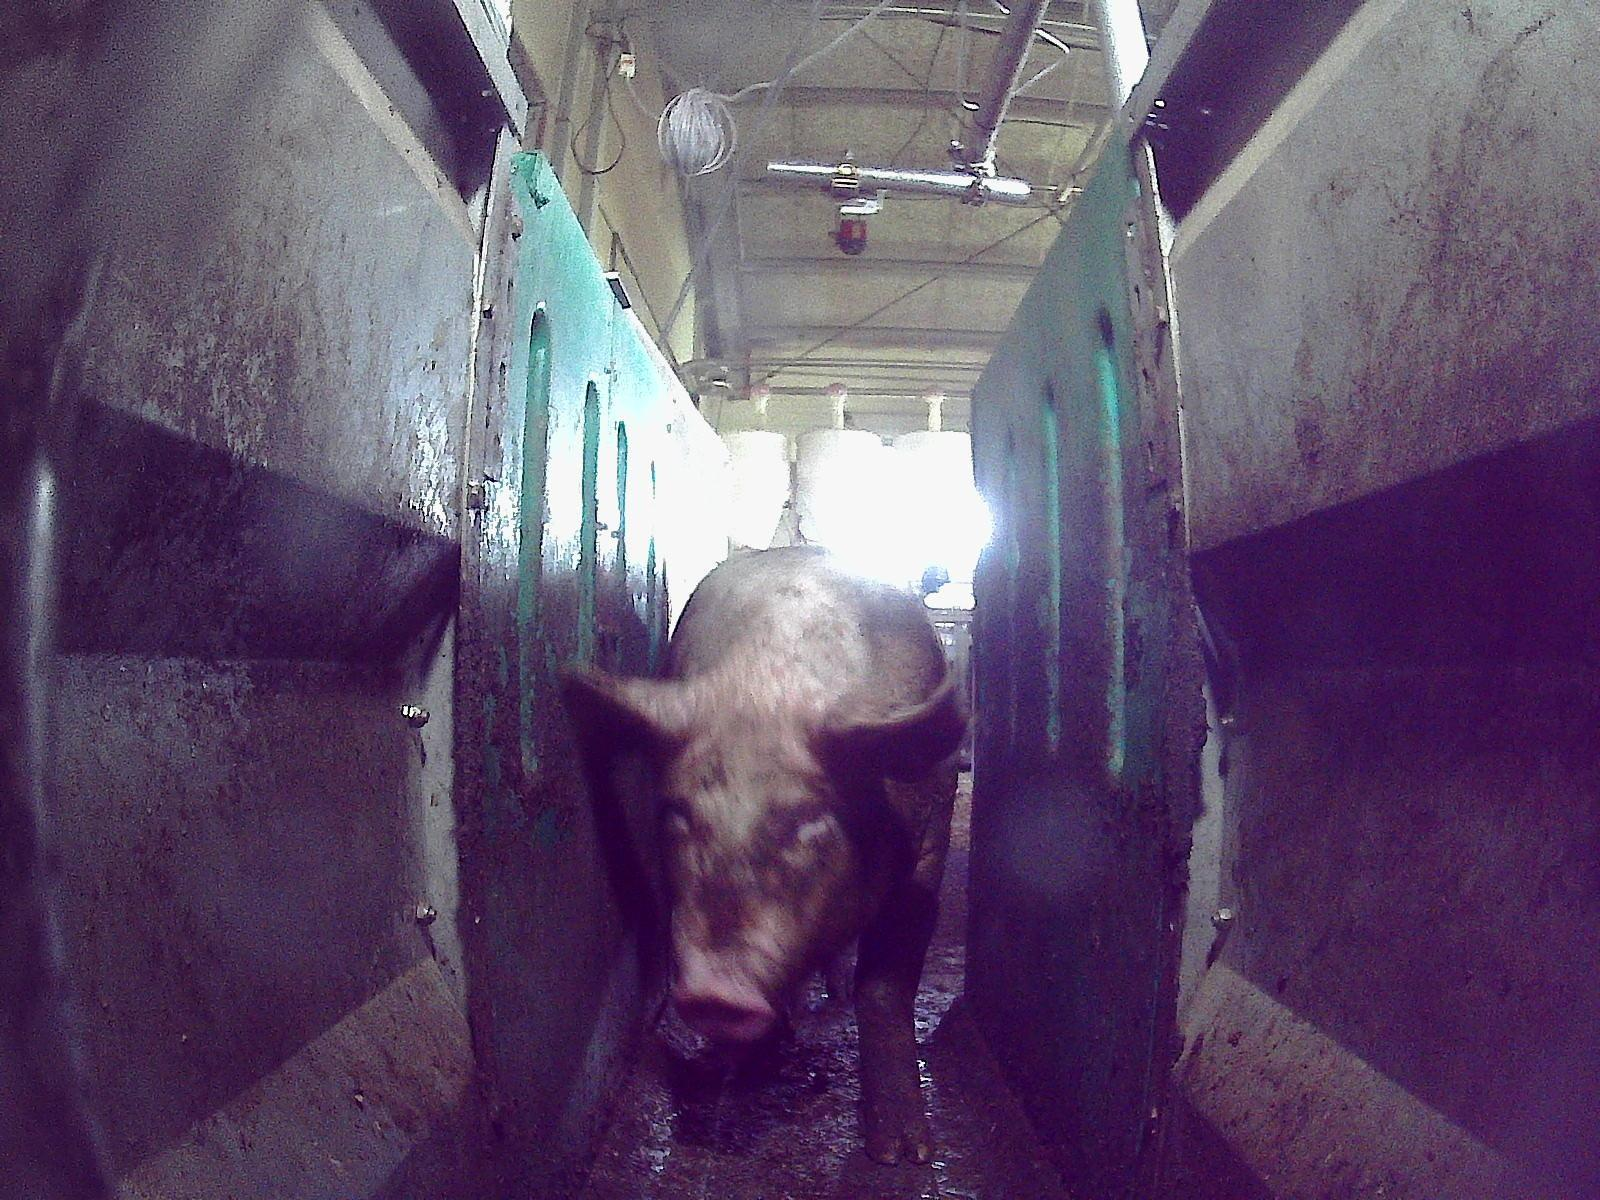Face: (650, 685, 876, 1040)
